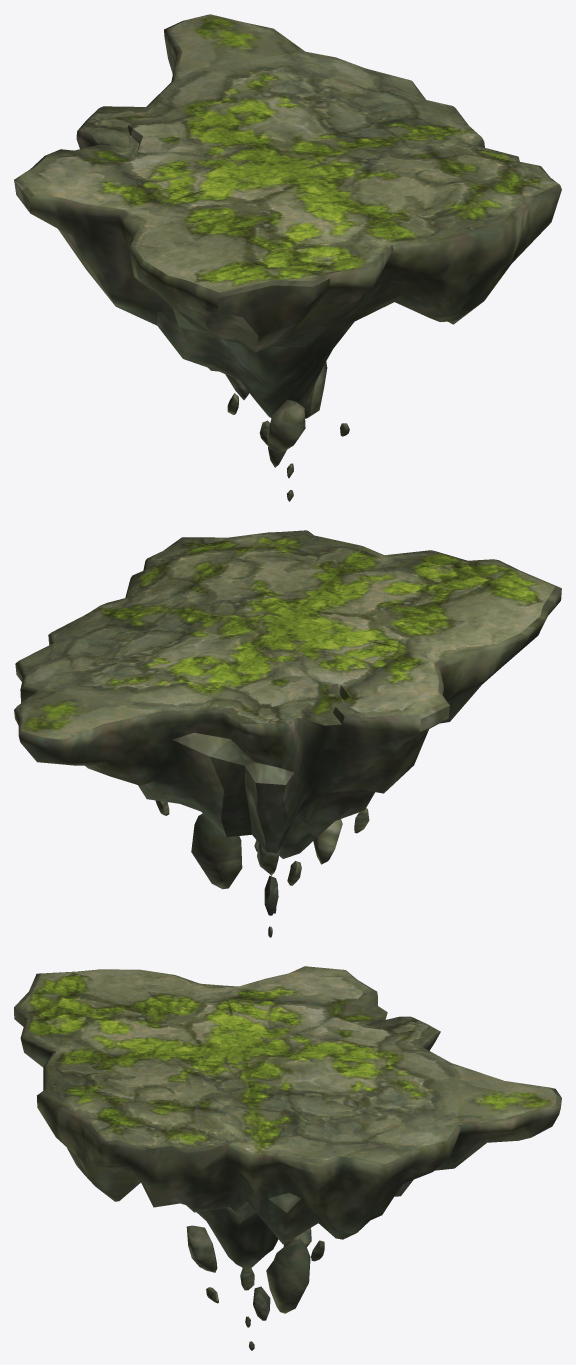
The model's file is jd_shanti_2.FBX.
3 renders of one model, top to bottom at view 1: azimuth 30°, elevation 25°; view 2: azimuth 150°, elevation 25°; view 3: azimuth 270°, elevation 25°, orthographic. The views are drawn at different scales.
Visible parts, largest first — view 1: jd_shanti_2; view 2: jd_shanti_2; view 3: jd_shanti_2.
Part boxes in pixels (bbox=[...]): jd_shanti_2: bbox=[14, 14, 561, 501]; jd_shanti_2: bbox=[14, 530, 561, 937]; jd_shanti_2: bbox=[14, 966, 561, 1350].
Bounding box in the file's own units: 5505 × 4215 × 6982.
